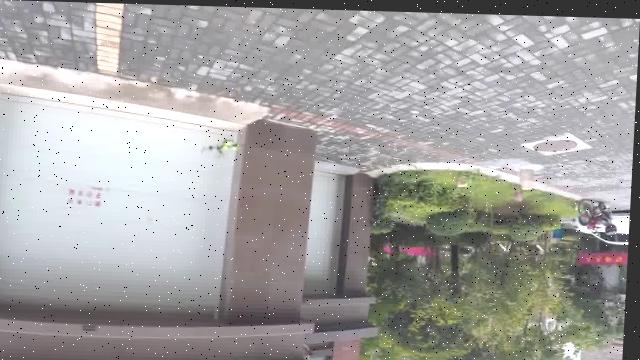drone: (210, 136, 243, 161)
